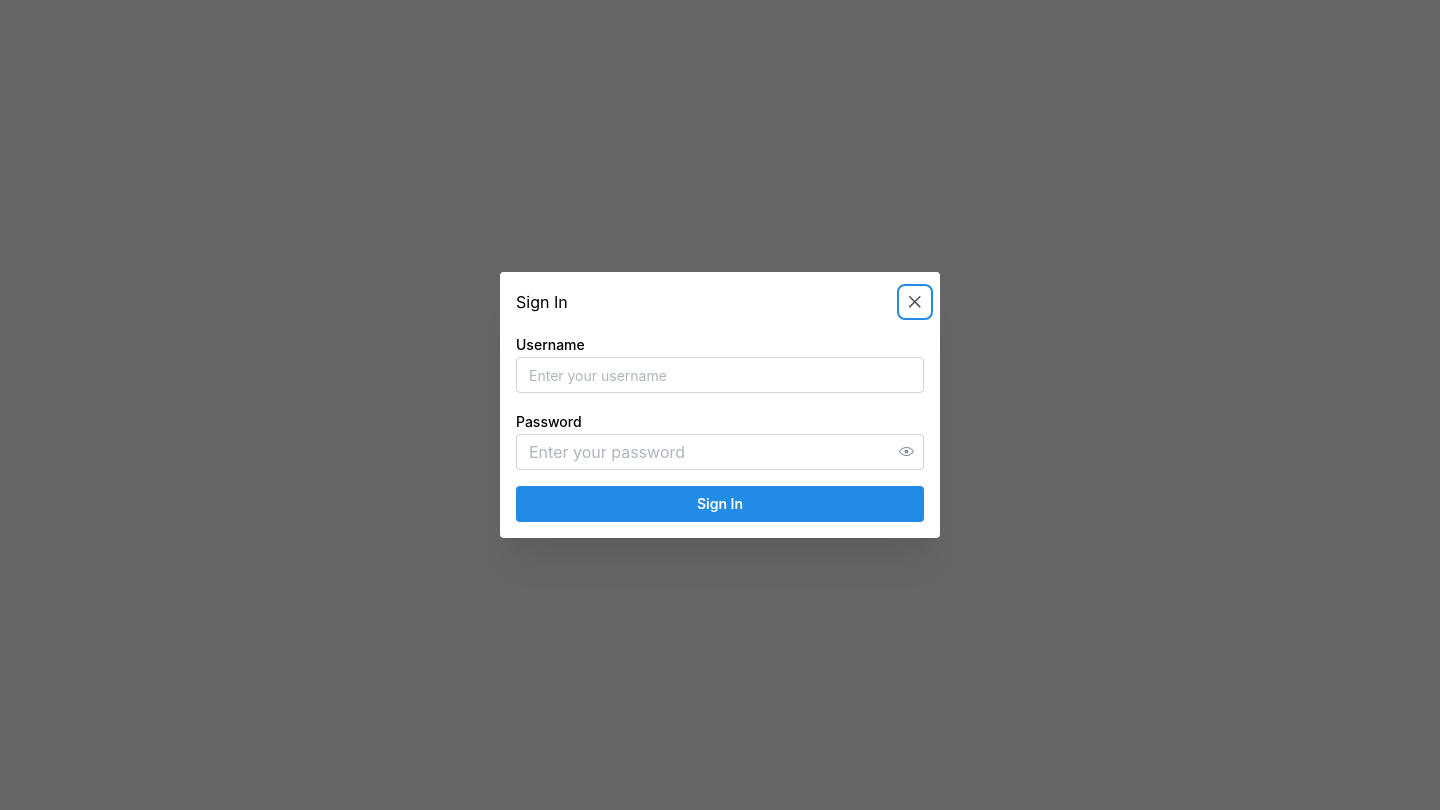
Test: <SignInModal /> › form validation › shows error when password is empty
The width and height of the screenshot is (1440, 810).
Type "testuser" into the field labelled "Username" at (720, 375), box [516,357,924,393]
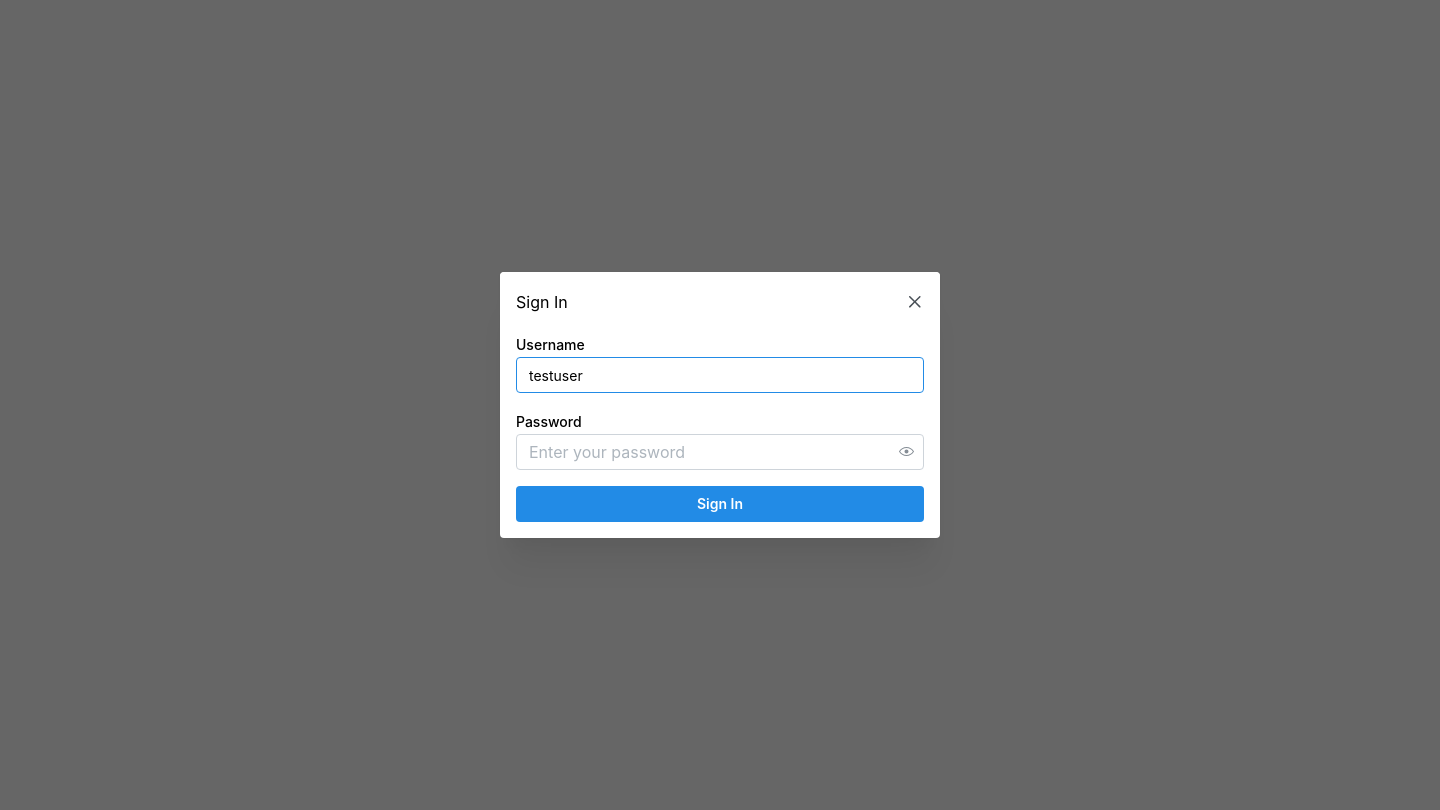
Click the button "Sign In" at (720, 504), box [516,486,924,522]
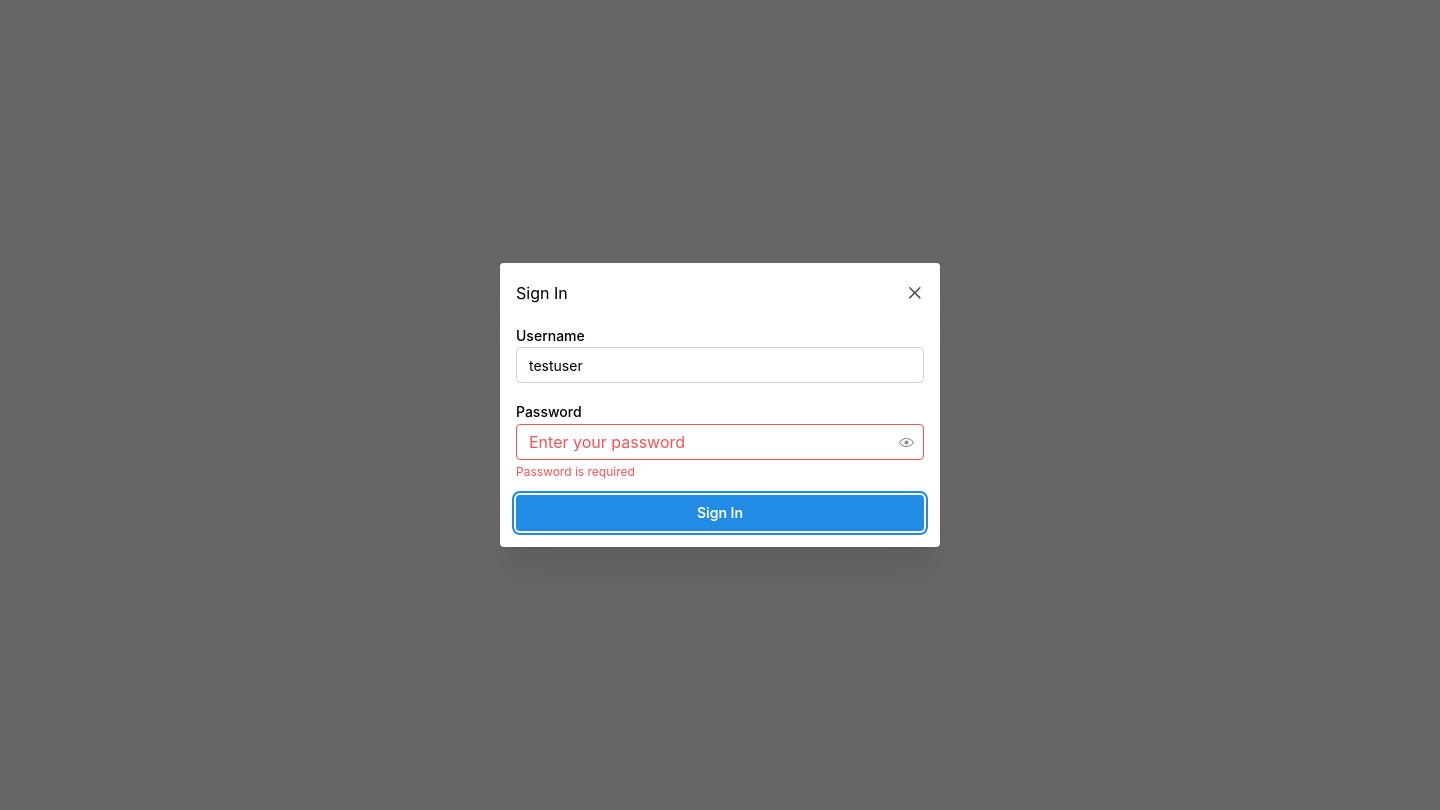
Result: the text "Password is required" is shown at [516,464,635,479]
